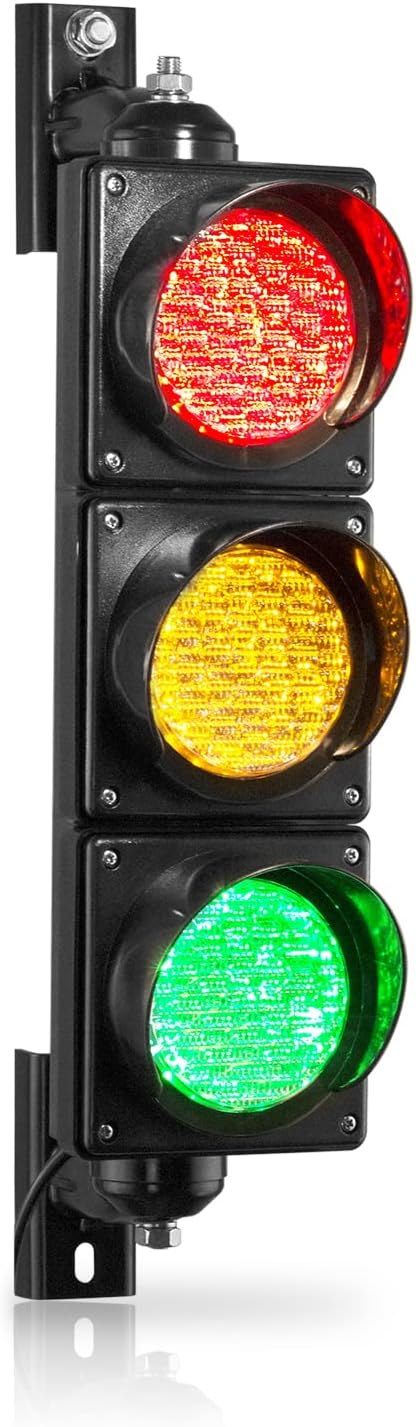TraficLight: (10, 34, 416, 1299)
